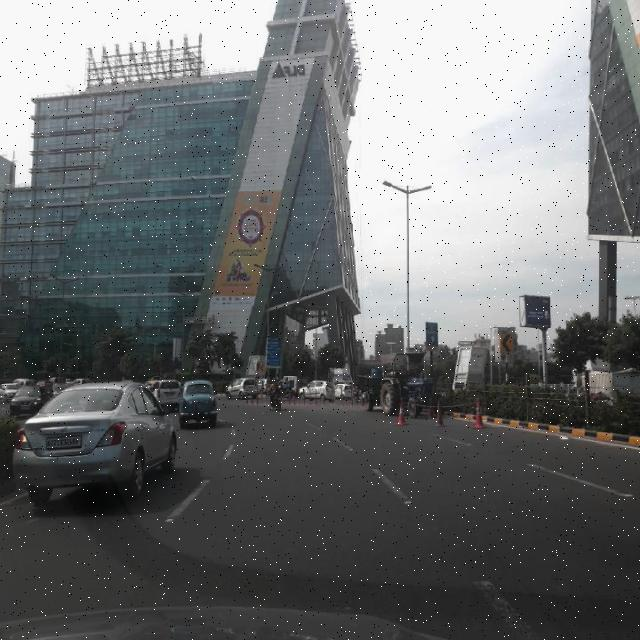D44: (467, 559, 529, 625)
